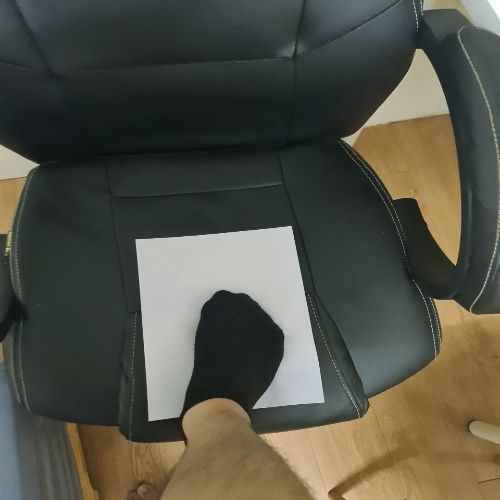Top_Foot: (119, 217, 345, 424)
